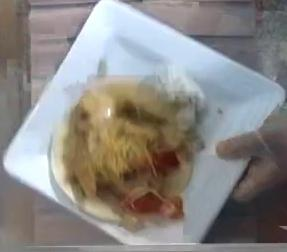taco: (62, 75, 200, 225)
